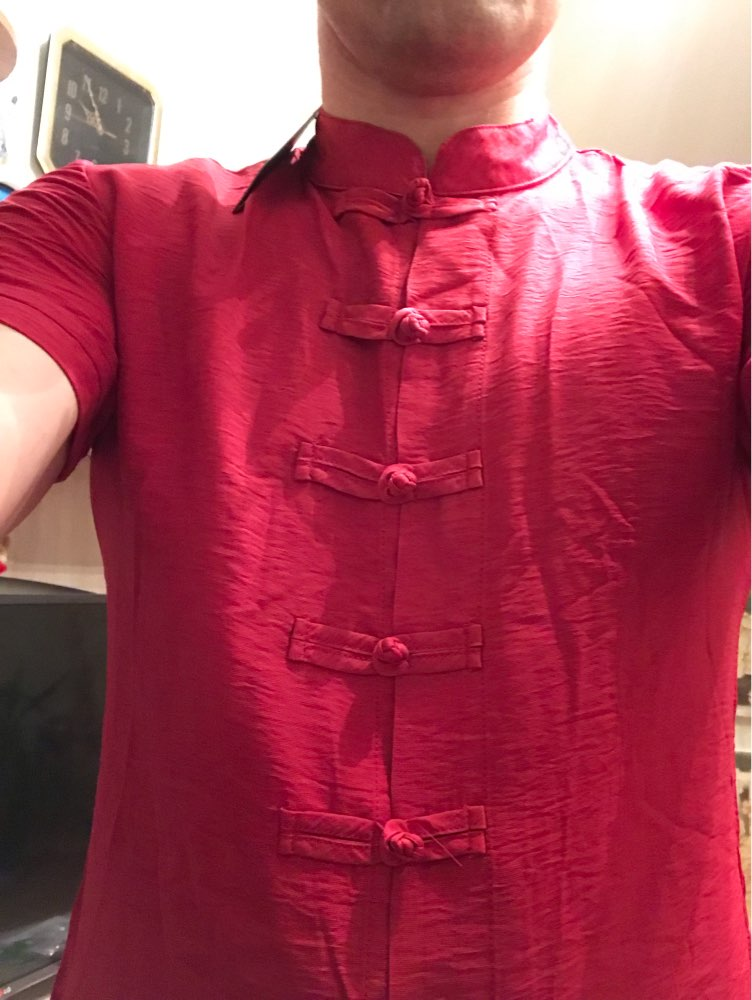shirts: (38, 119, 752, 947)
